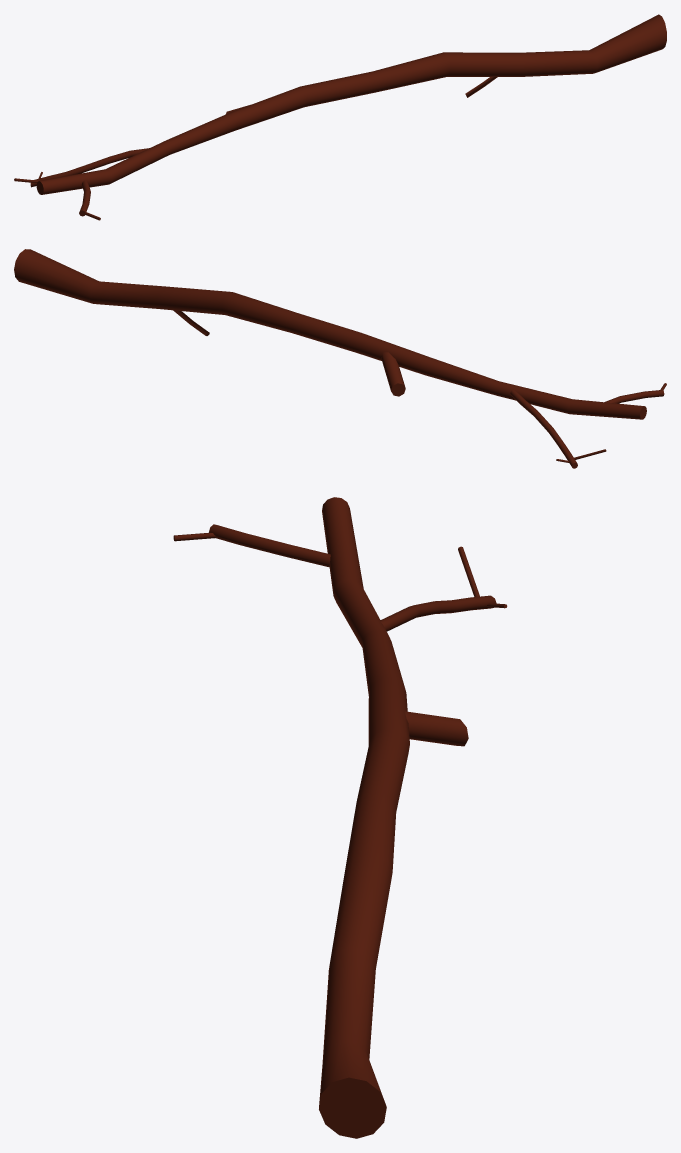
File: branch_05.fbx
The picture shows the model from 3 angles, top to bottom: view 1: azimuth 30°, elevation 25°; view 2: azimuth 150°, elevation 25°; view 3: azimuth 270°, elevation 25°; orthographic projection. The views are drawn at different scales.
Parts seen in each view (by area): view 1: branch_05; view 2: branch_05; view 3: branch_05.
Part boxes in pixels (<box>): branch_05: <box>14,14,666,220</box>; branch_05: <box>14,249,666,468</box>; branch_05: <box>173,497,507,1138</box>.
Bounding box in the file's own units: 242 × 23.29 × 56.82.
